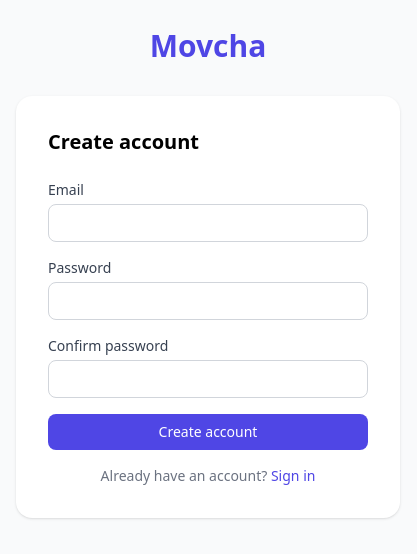
Test case: Register page › shows server error on registration failure
Type "taken@test.com" into the field labelled "Email" at (208, 223), box [48, 204, 368, 242]
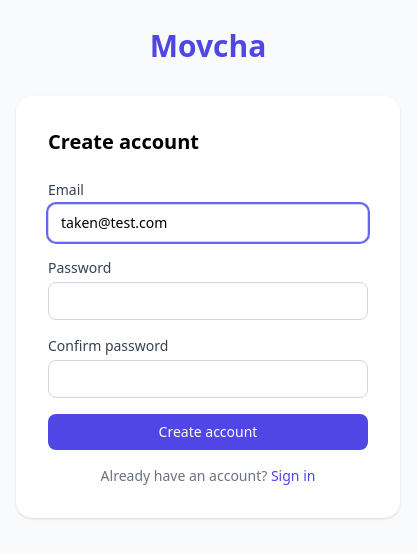
Type "pass123" into the password field labelled "Password" at (208, 301), box [48, 282, 368, 320]
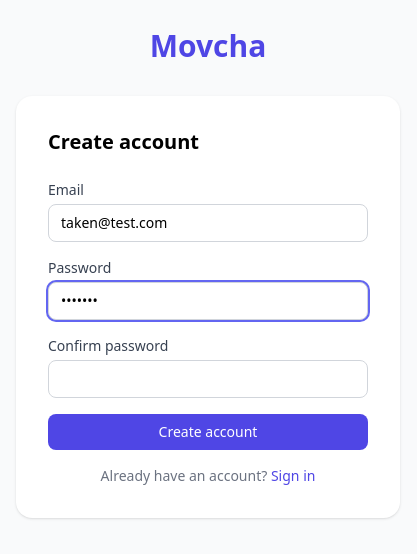
Type "pass123" into the password field labelled "Confirm password" at (208, 379), box [48, 360, 368, 398]
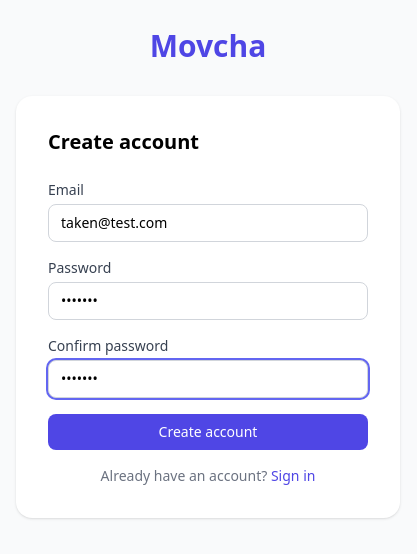
Click the button "Create account" at (208, 432), box [48, 414, 368, 450]
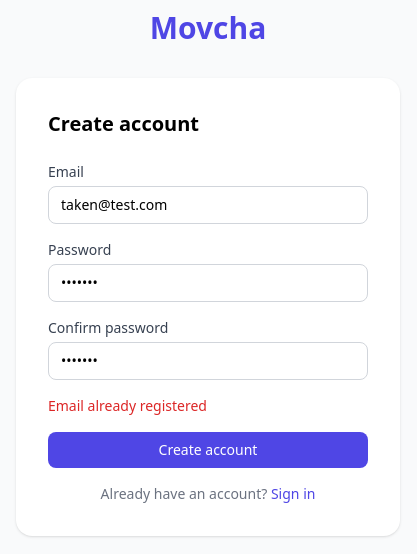
Now the text "Email already registered" is shown, box [48, 396, 207, 415]
